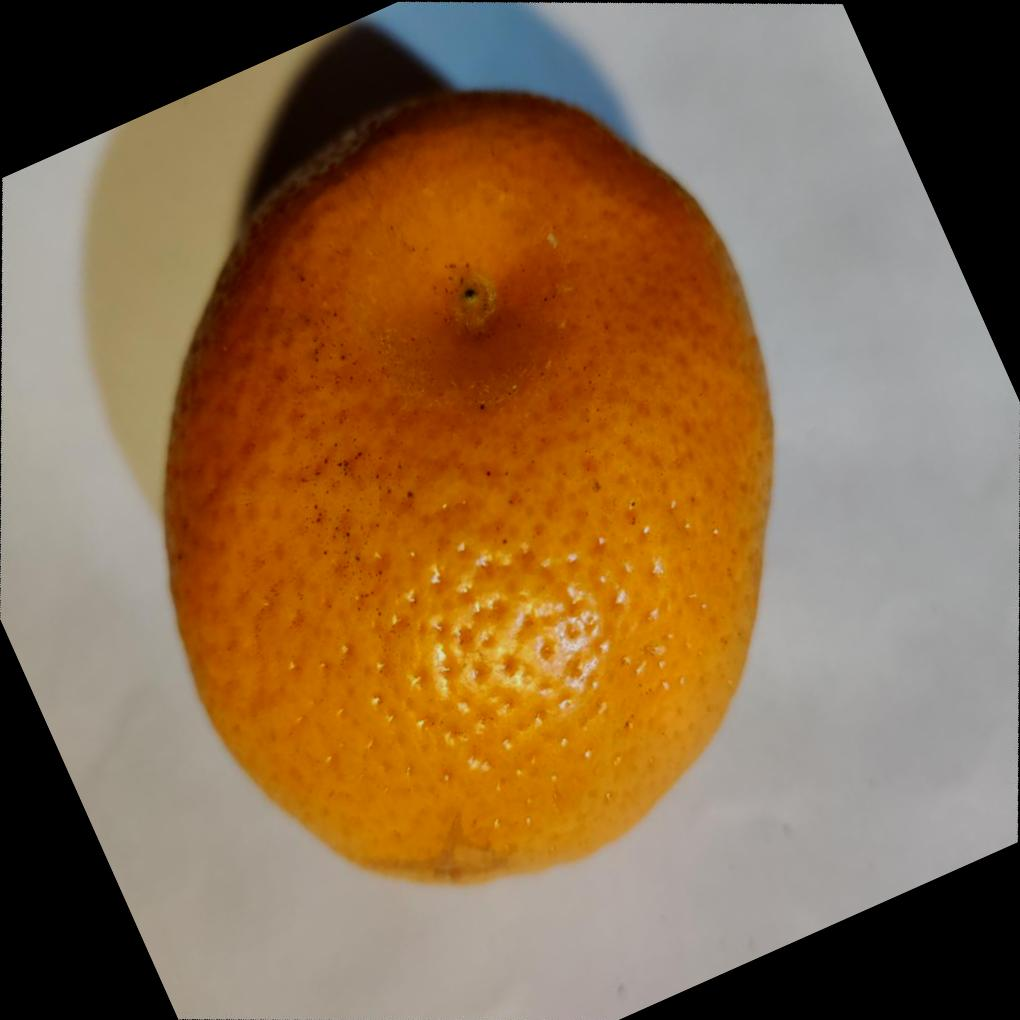FreshGuava: (161, 85, 778, 892)
